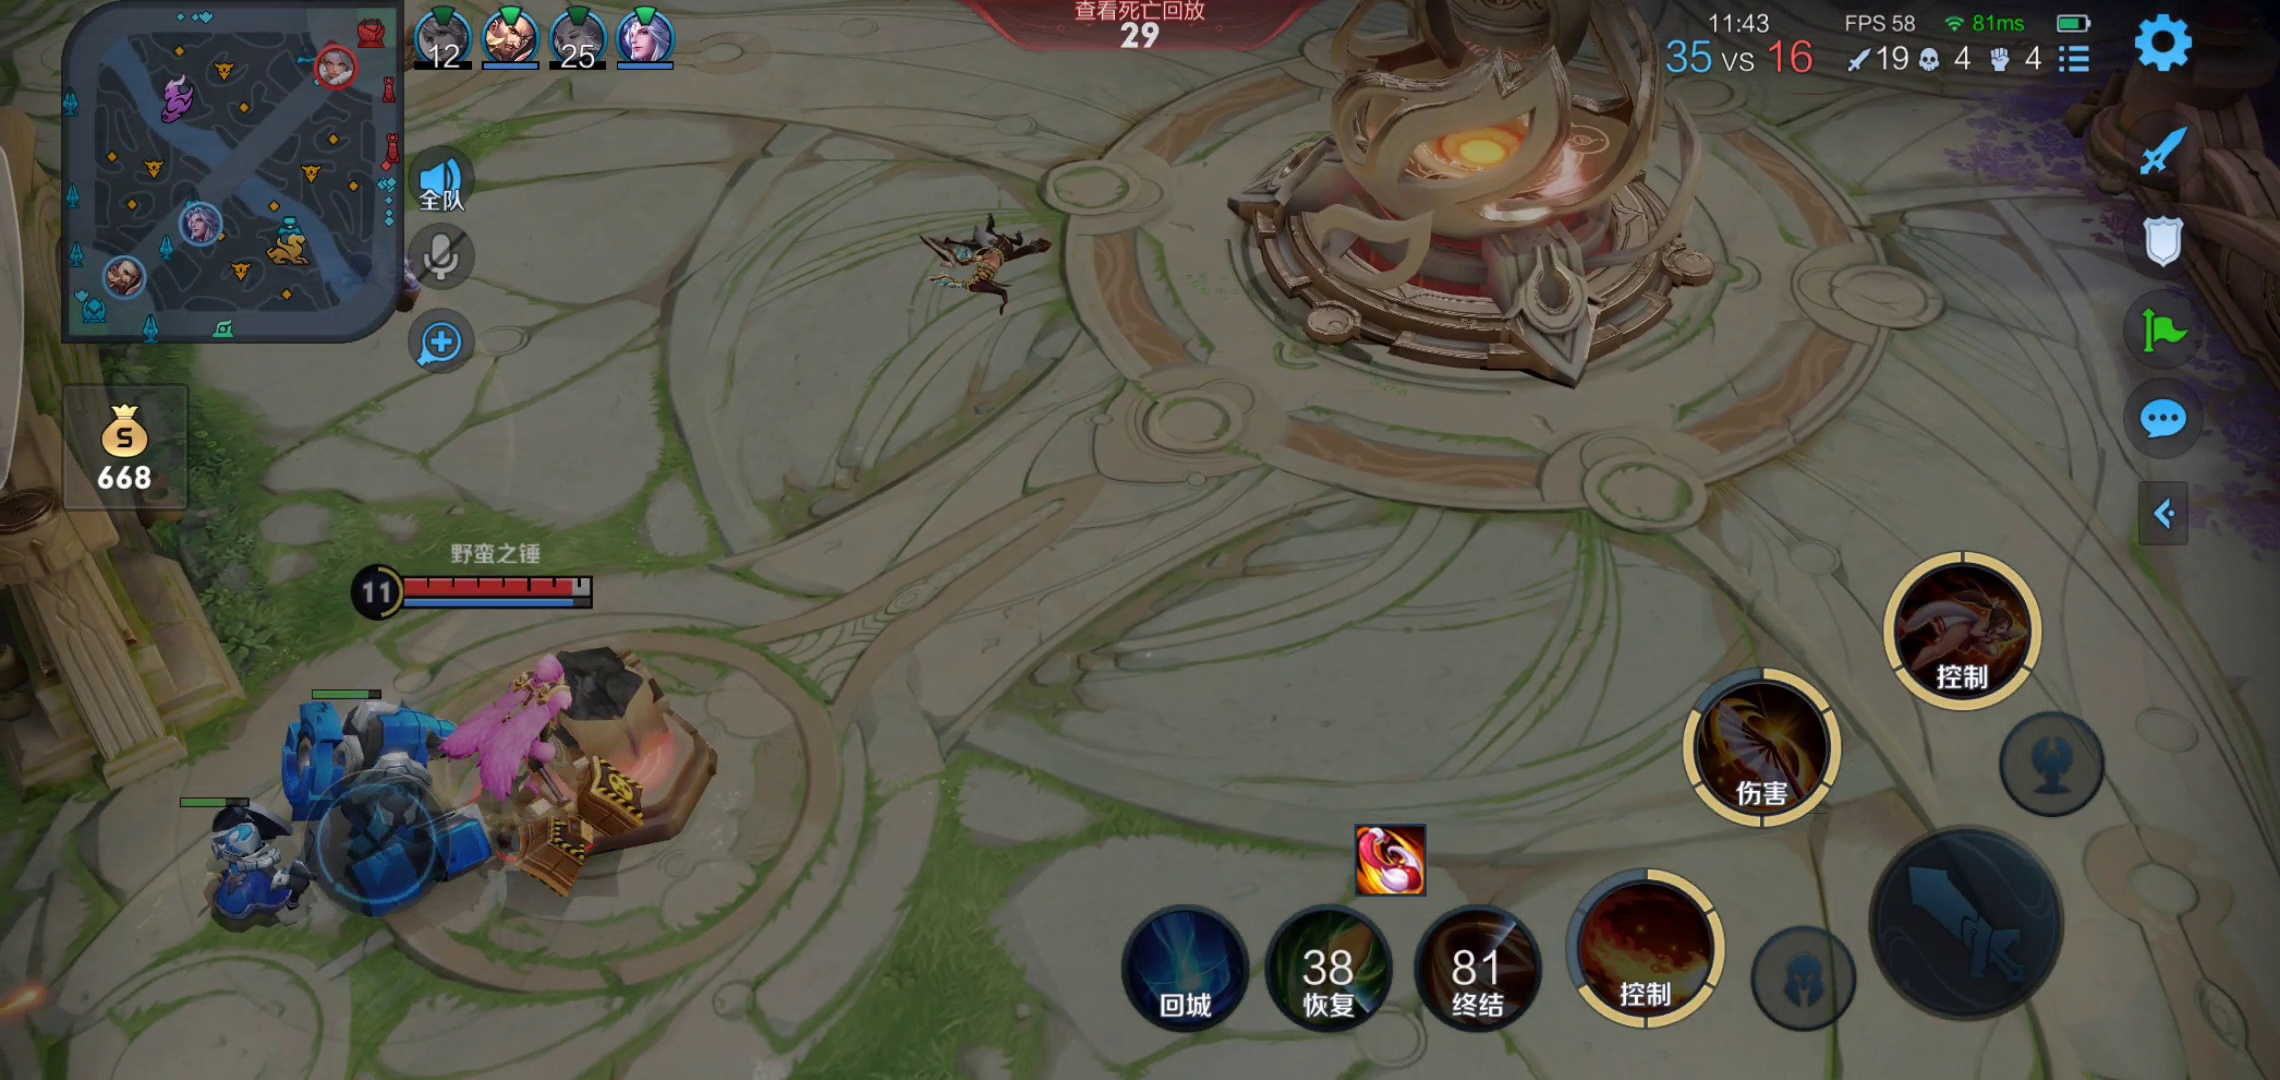crystal: (1248, 1, 1725, 395)
hero: (454, 664, 579, 858), (904, 201, 1061, 331)
soldier: (259, 709, 486, 914), (179, 808, 305, 914)
tower: (531, 660, 734, 859)
